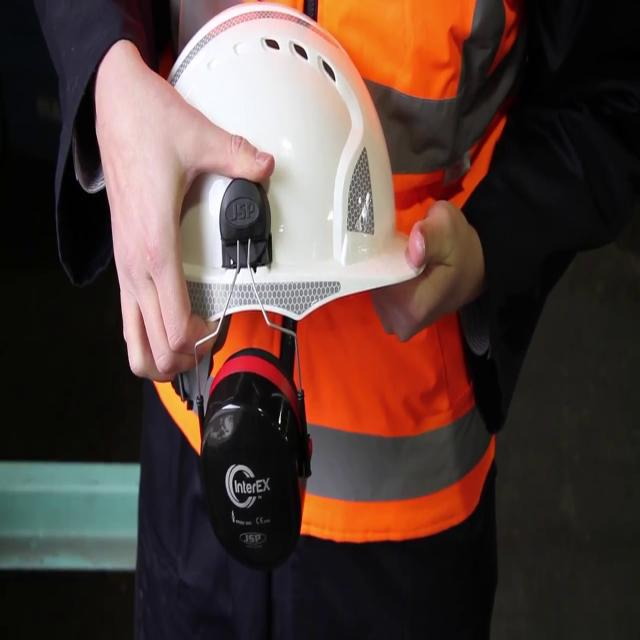earmuff: (199, 339, 317, 578)
helmet: (134, 0, 429, 330)
